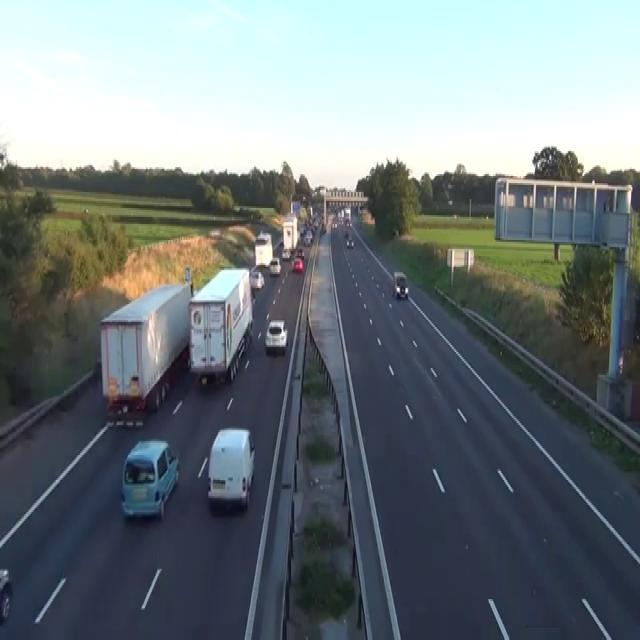Car: (121, 439, 179, 519), (207, 427, 255, 510), (264, 318, 287, 354), (0, 567, 12, 622), (393, 270, 408, 299), (249, 268, 264, 290), (268, 256, 281, 276), (256, 230, 271, 243), (208, 229, 224, 240), (292, 258, 303, 272), (281, 247, 290, 260), (303, 233, 312, 245), (346, 238, 354, 249), (296, 247, 304, 258), (345, 217, 351, 227), (320, 224, 326, 233), (331, 220, 337, 228), (299, 226, 305, 234), (343, 228, 348, 236), (447, 199, 452, 205)
Truck: (99, 277, 193, 416), (187, 266, 253, 388), (254, 231, 272, 267), (282, 214, 298, 252)
